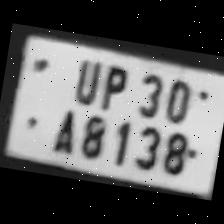0: (158, 72, 196, 124)
1: (104, 113, 136, 166)
3: (127, 117, 164, 172), (130, 66, 167, 118)
8: (156, 125, 193, 178), (74, 109, 110, 161)
A: (44, 101, 82, 154)
P: (94, 60, 132, 113)
U: (67, 54, 104, 106)
